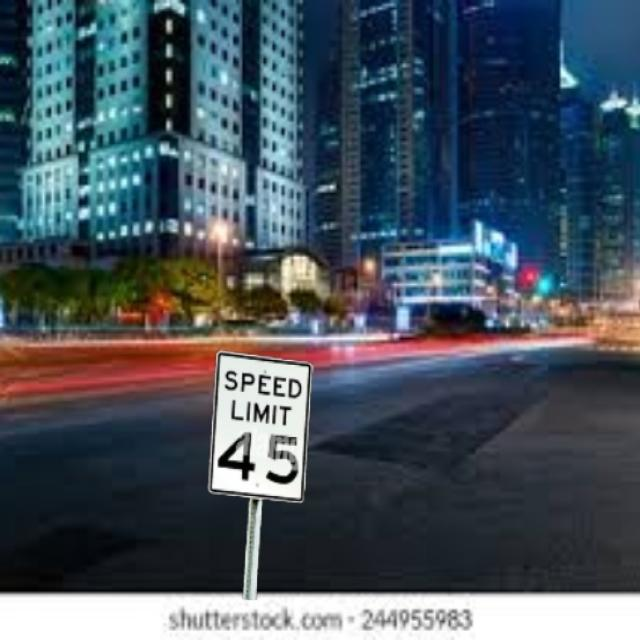speedLimit45: (207, 350, 314, 600)
